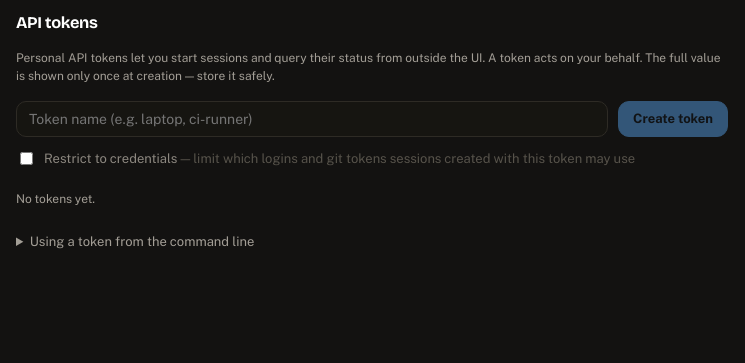
it: restricting an API token to credentials › creates an unrestricted token unless the card is opened
Type "ci" into the field with placeholder "Token name (e.g. laptop, ci-runner)".
click(312, 119); type("ci")  # box [16,101,608,137]
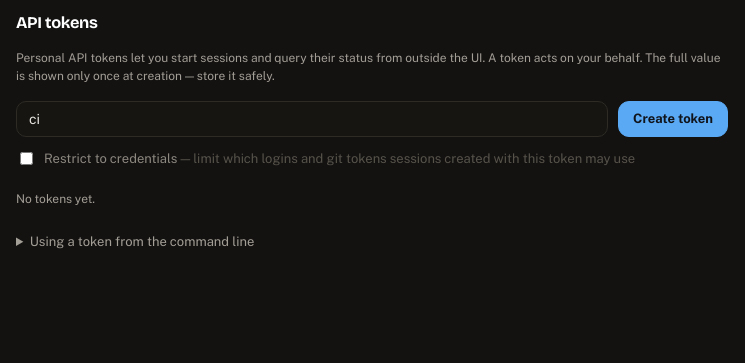
Click the button "Create token".
click(673, 119)  # box [618,101,728,137]
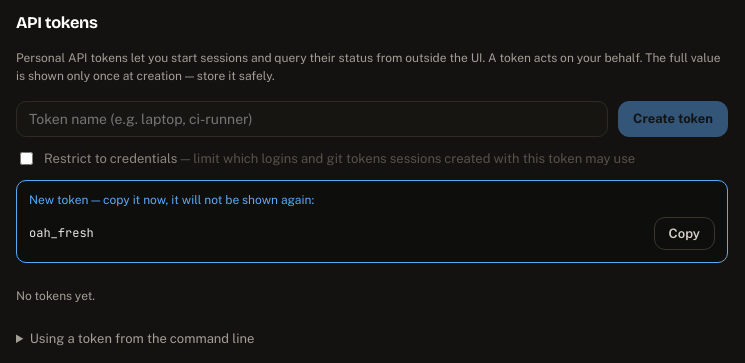
expect the text with class "fresh-value" reads "oah_fresh": met, box [29,225,94,241]
